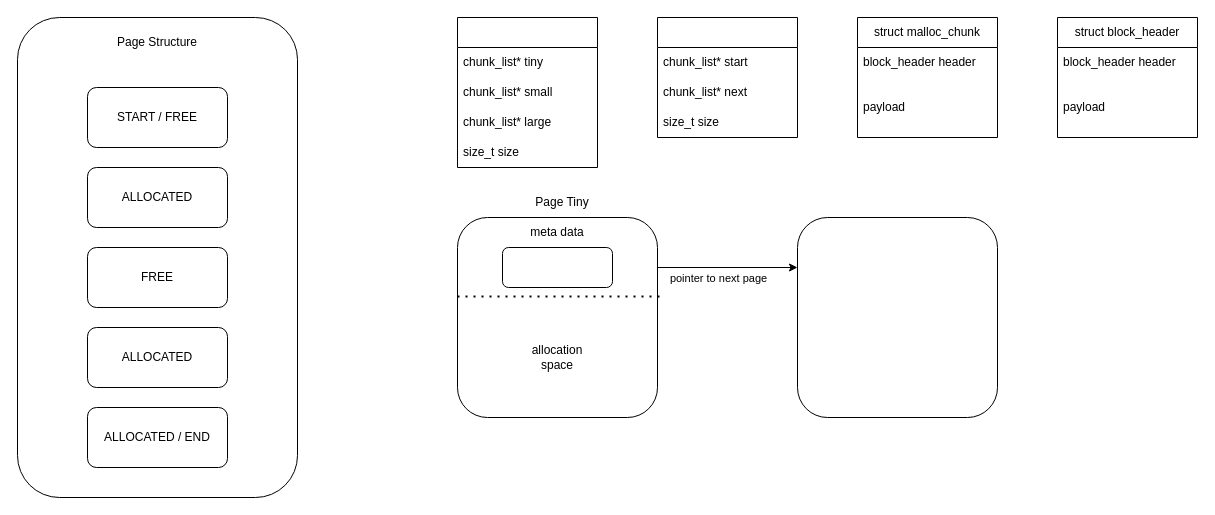
Image size: 1215x515. Some labels were removed from this diagram. The shapes that lost their labels are listed below. From the top down, each one's box as (x1, y1, x2, y2) in pixels, then its label:
(456, 16, 598, 168): struct g_heap
(656, 16, 798, 138): struct chunk_list
(502, 246, 612, 288): free space bit array
